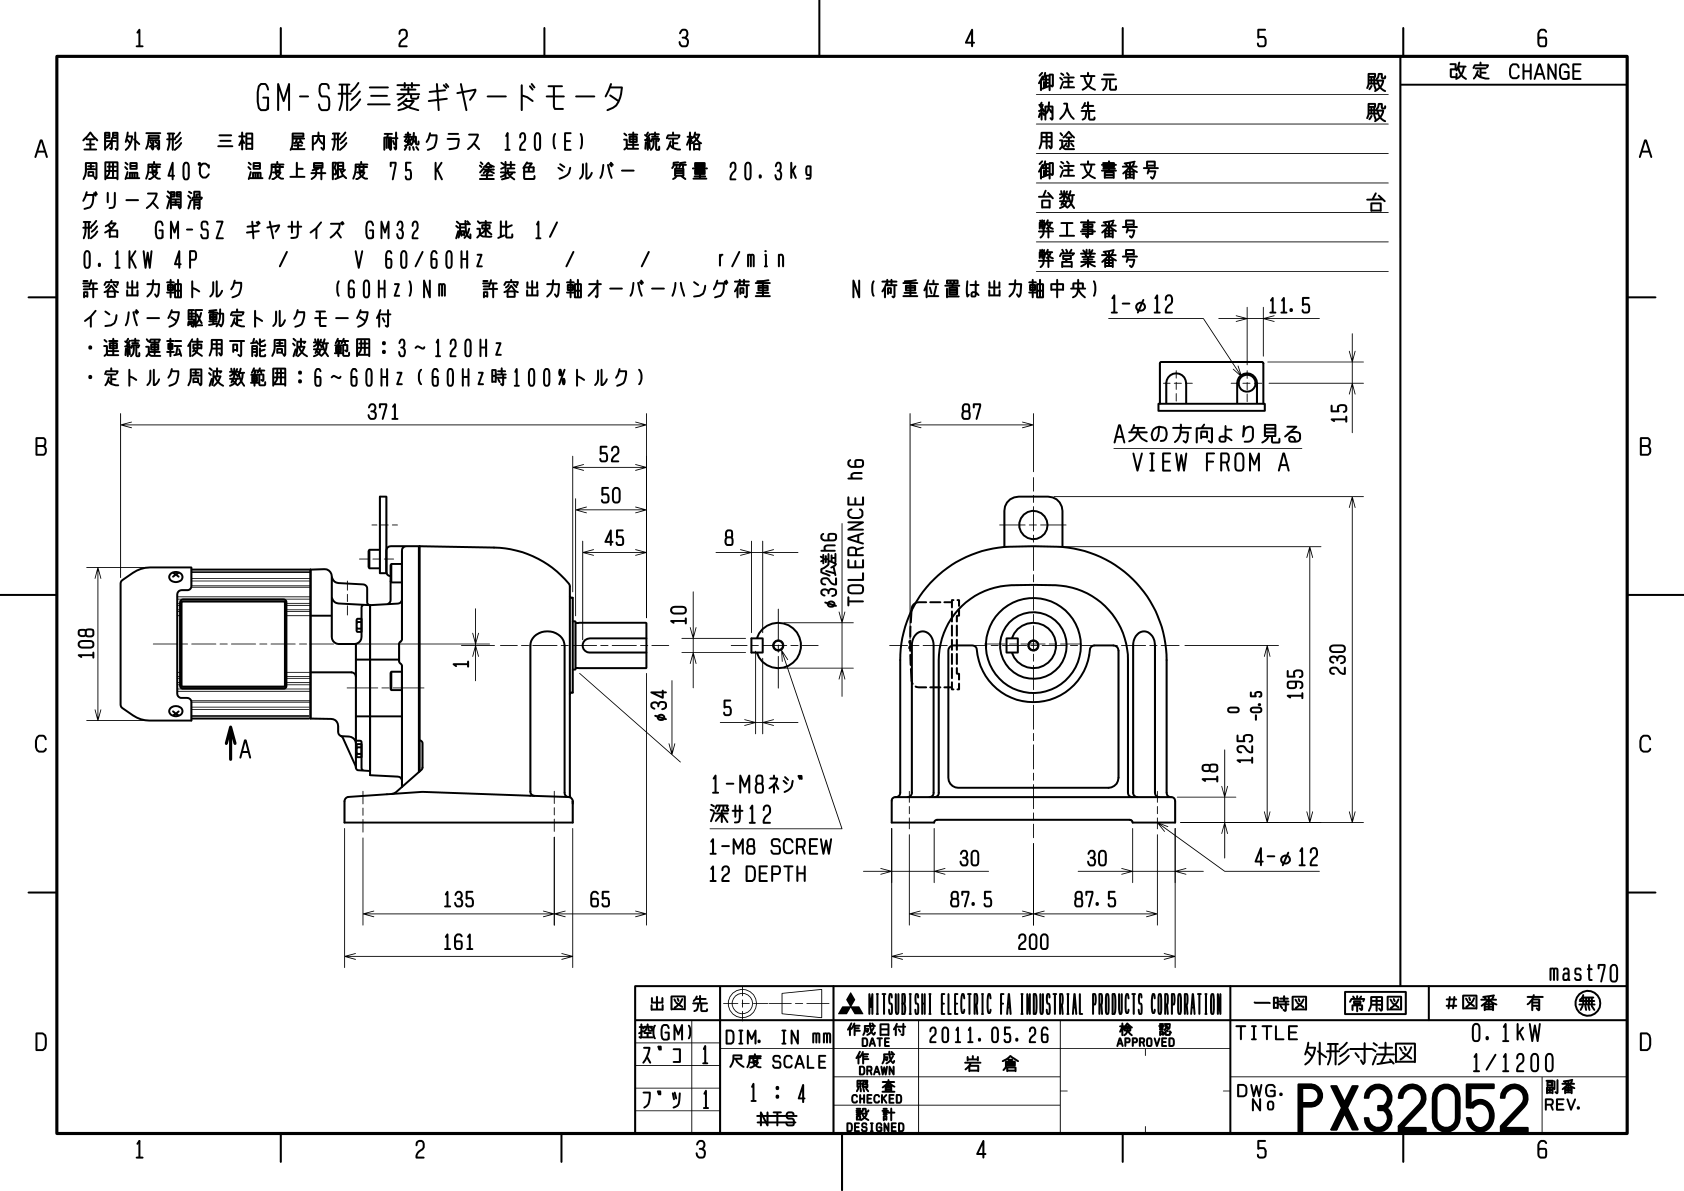GM_S_インバタ屋外＿三相_脚: (67, 391, 1377, 978)
